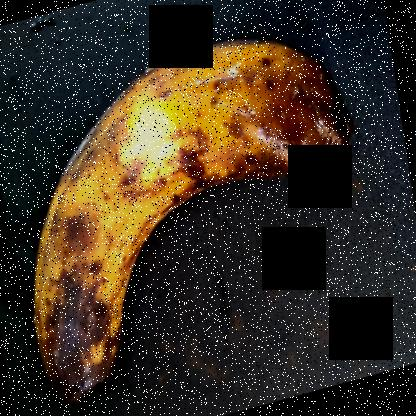rotten: (15, 27, 353, 415)
